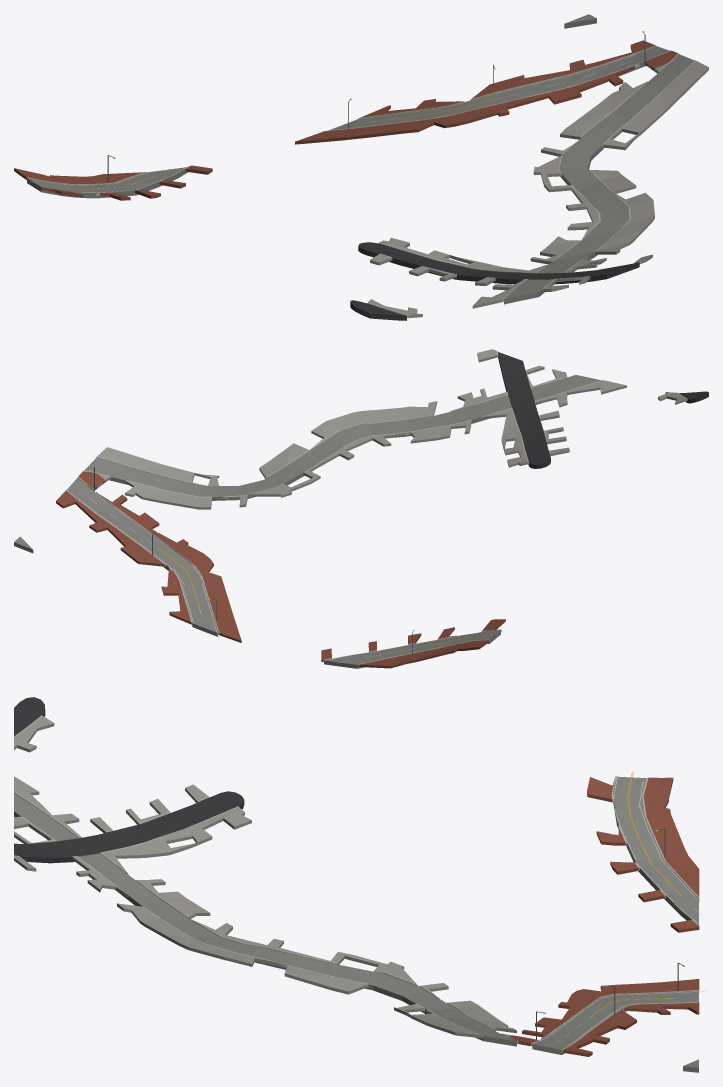
File: 18-218892-118950.add61b68.glb
3 views of the same model, one above another, from view 1: azimuth 30°, elevation 25°; view 2: azimuth 150°, elevation 25°; view 3: azimuth 270°, elevation 25° (orthographic). The views are drawn at different scales.
Bounding box in the file's own units: 148 × 35.51 × 148.
